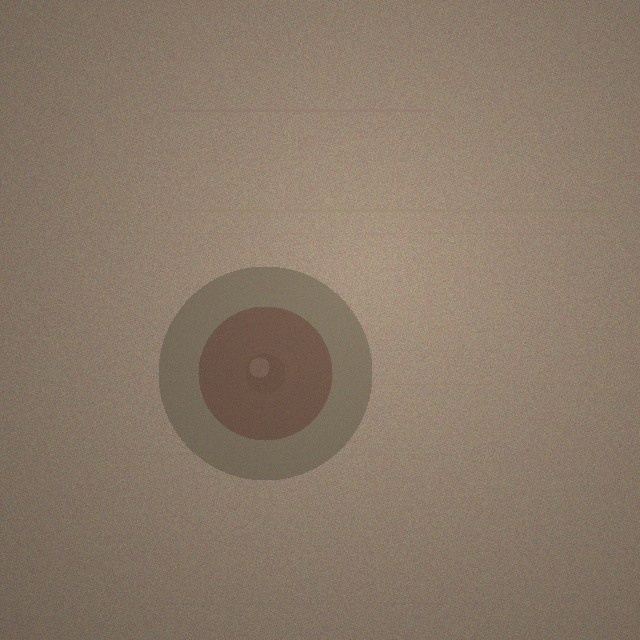good: (158, 266, 372, 480)
